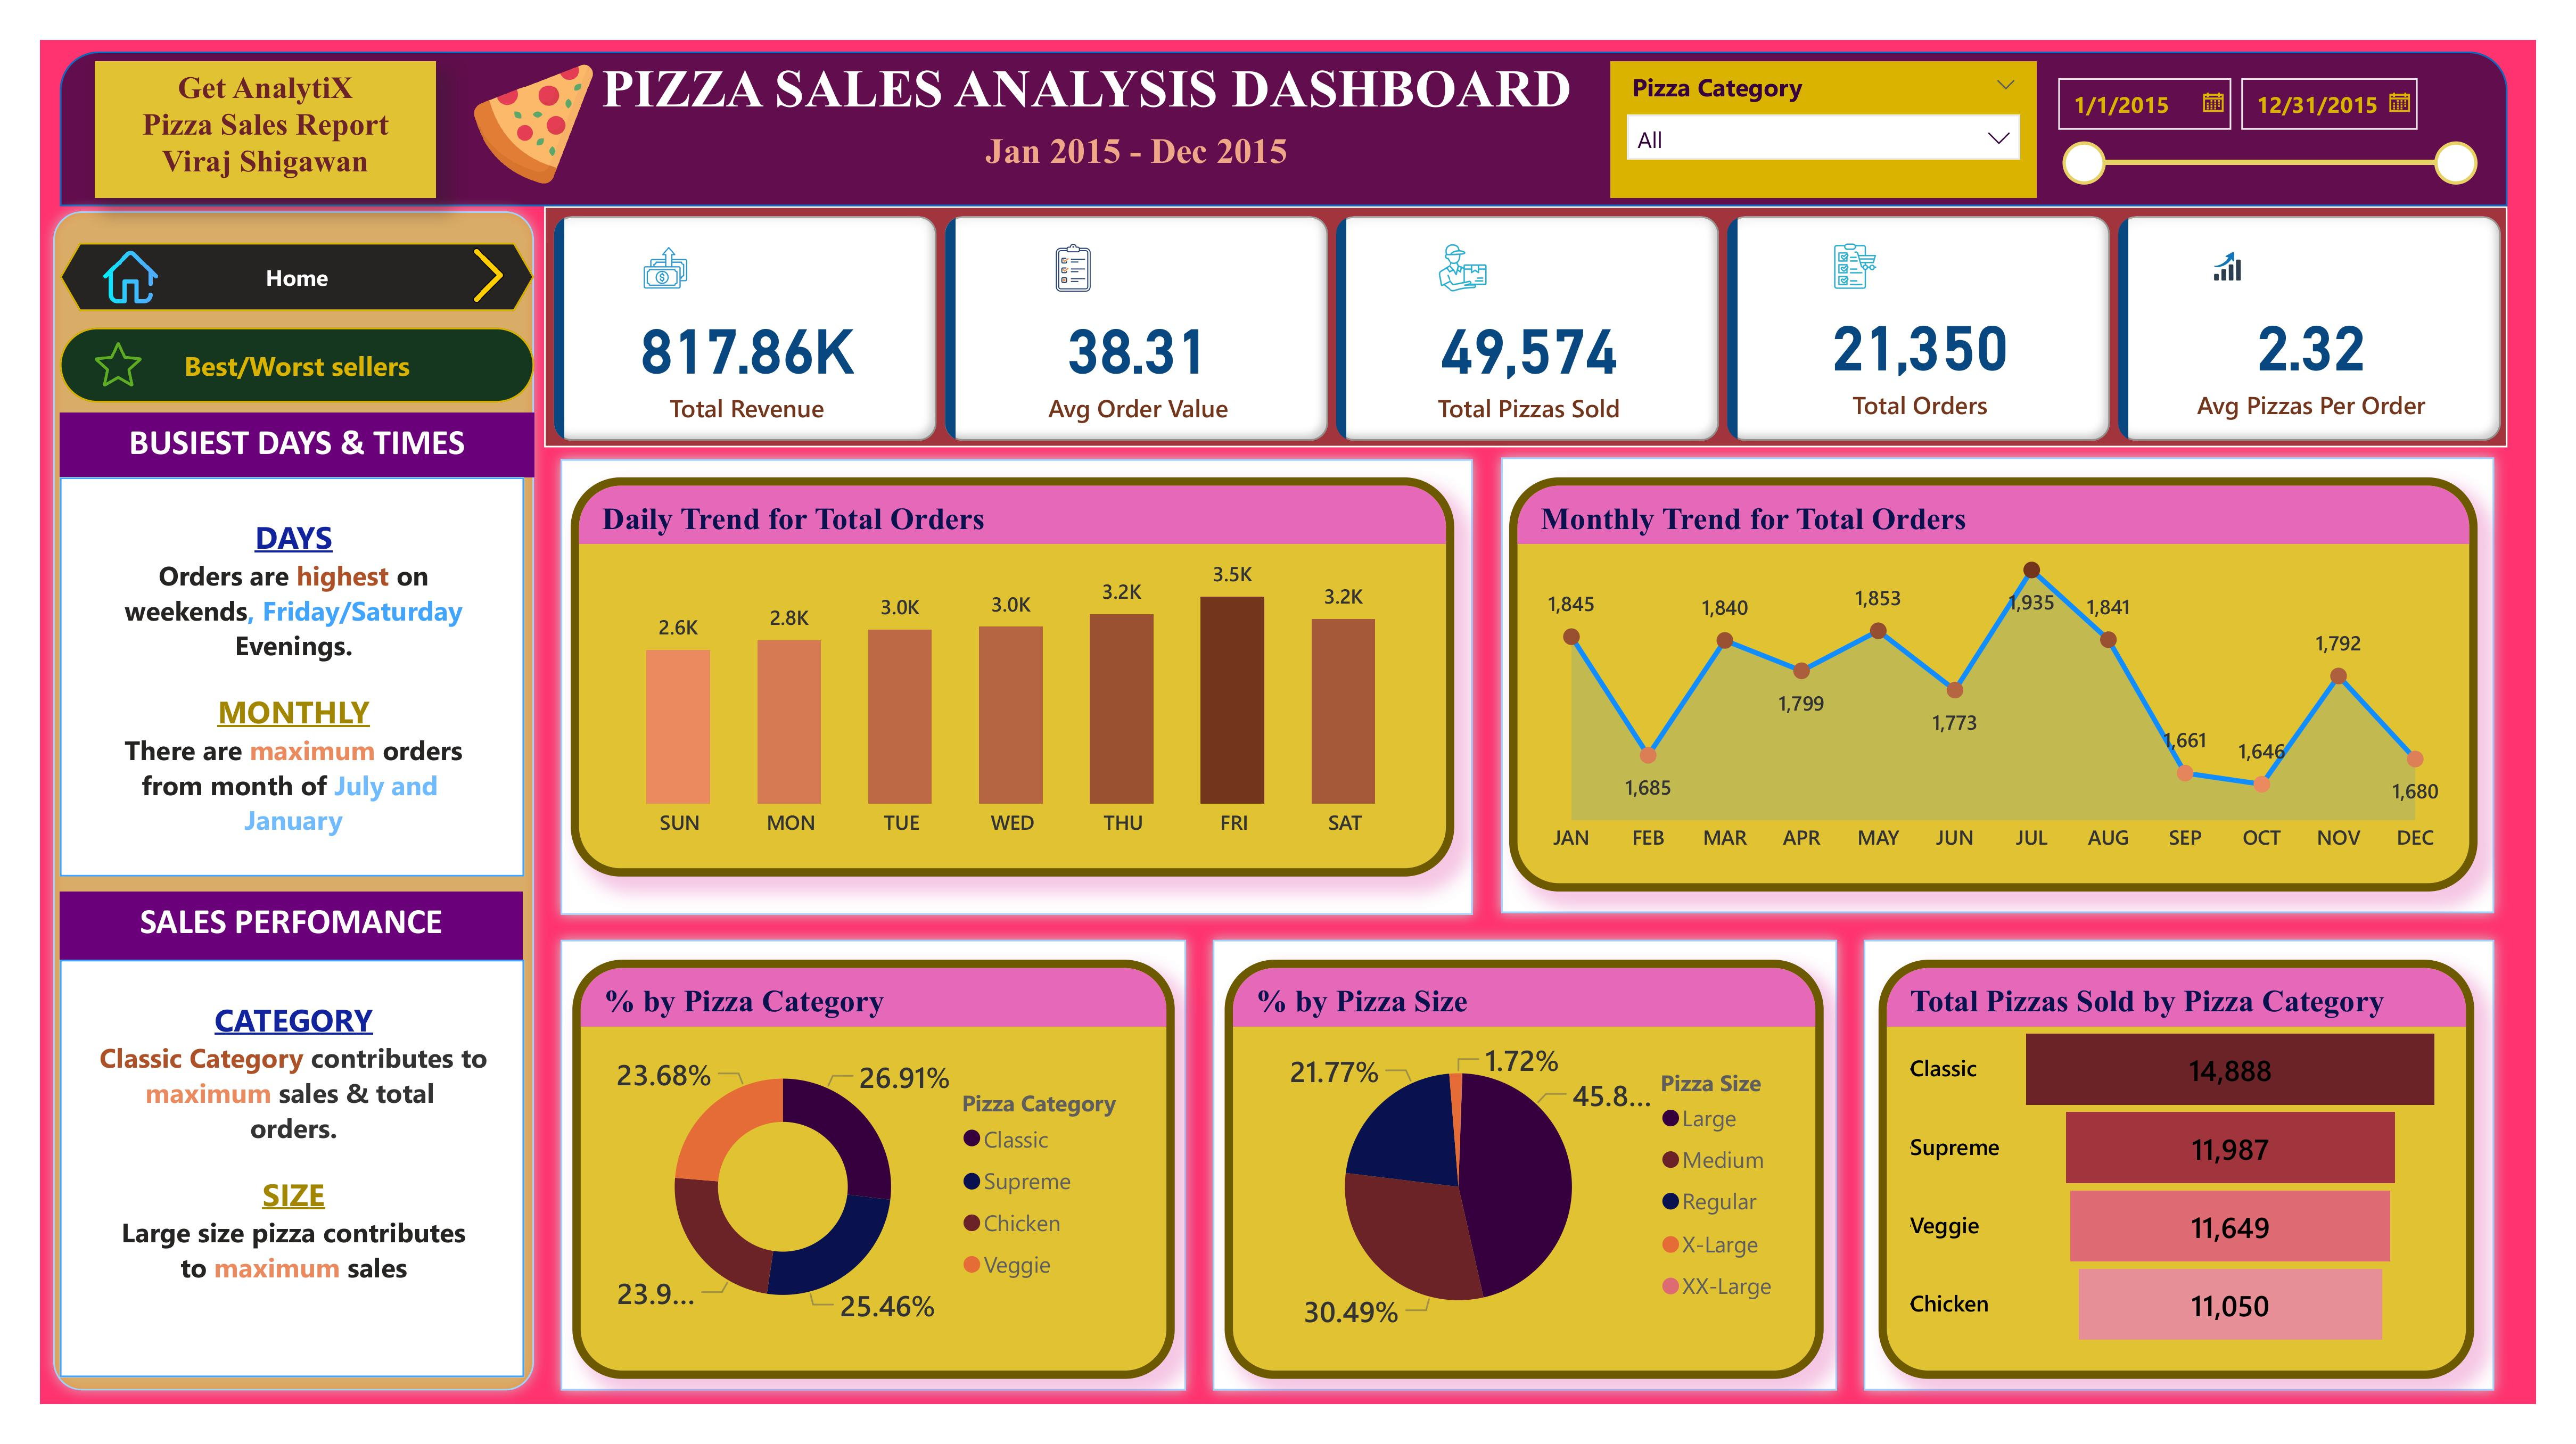

The page's visual inventory and layout, read from the dashboard file:
{"tool":"powerbi","page":{"name":"Home","canvas":[1500,820],"ordinal":0},"visuals":[{"type":"cardVisual","fields":{"Data":["pizza_sales.Total Revenue","pizza_sales.Avg Order Value","pizza_sales.Total Pizza Sold","pizza_sales.Total Orders Placed","pizza_sales.Avg pizza per order"]},"box":[303.3,100,1180,145],"z":0},{"type":"shape","box":[11.7,6.7,1471.7,93.3],"z":1000},{"type":"textbox","box":[265,6,728,53],"z":2000},{"type":"textbox","box":[551,50,216,45],"z":3000},{"type":"image","box":[254,6,85,89],"z":4000},{"type":"shape","box":[304.8,243.5,564.5,290.3],"z":5000},{"type":"columnChart","title":"Daily Trend for Total Orders","fields":{"Y":["pizza_sales.Total Orders"],"Category":["pizza_sales.Order Day"]},"box":[319.4,262.9,530.6,240.3],"z":6000},{"type":"shape","box":[870,243.3,613.3,290],"z":7000},{"type":"areaChart","title":"Monthly Trend for Total Orders ","fields":{"Category":["pizza_sales.Order Month"],"Y":["pizza_sales.Total Orders"]},"box":[883.3,263.3,581.7,248.3],"z":8000},{"type":"shape","box":[305,533.3,391.7,286.7],"z":9000},{"type":"shape","box":[696.7,533.3,391.7,286.7],"z":10000},{"type":"shape","box":[0,95,305,725],"z":11000},{"type":"shape","box":[1088.3,533.3,395,286.7],"z":12000},{"type":"donutChart","title":"% by Pizza Category","fields":{"Category":["pizza_sales.pizza_category"],"Y":["pizza_sales.Total Revenue"]},"box":[320,553.3,361.7,251.7],"z":13000},{"type":"pieChart","title":"% by Pizza Size","fields":{"Y":["pizza_sales.Total Revenue"],"Category":["pizza_sales.pizza_size"]},"box":[711.7,553.3,360,251.7],"z":14000},{"type":"funnel","title":"Total Pizzas Sold by Pizza Category","fields":{"Category":["pizza_sales.Pizza Category"],"Y":["pizza_sales.Total Pizzas Sold"]},"box":[1105,553.3,358.3,251.7],"z":15000},{"type":"textbox","box":[12.2,224.4,284.4,38.9],"z":16000},{"type":"textbox","box":[12.2,263.3,278.9,240],"z":17000},{"type":"textbox","box":[12.2,512.2,277.8,41.1],"z":18000},{"type":"textbox","box":[12.2,553.3,278.9,251.1],"z":19000},{"type":"slicer","fields":{"Values":["pizza_sales.Pizza Category"]},"box":[943.6,12.7,256.4,82.7],"z":20000},{"type":"slicer","fields":{"Values":["pizza_sales.order_date"]},"box":[1200,12.7,272.7,82.7],"z":21000},{"type":"pageNavigator","box":[11.7,121.7,285,40.8],"z":22000},{"type":"pageNavigator","box":[11.7,172.5,285,45],"z":23000},{"type":"image","box":[248.2,115.3,42.4,51.8],"z":24000},{"type":"image","box":[32.9,114.7,43.5,54.1],"z":25000},{"type":"image","box":[25,175.8,43.3,38.3],"z":26000},{"type":"textbox","box":[32.7,12.7,205.3,82.7],"z":27000}]}

Visuals, with their boxes on the page's 1500x820 design canvas (x1, y1, x2, y2). These are canvas units, not pixel positions in the 2576x1444 screenshot, which may show the page scaled, cropped or inside an application window:
cardVisual - pizza_sales.Total Revenue x pizza_sales.Avg Order Value: x1=303 y1=100 x2=1483 y2=245
shape: x1=12 y1=7 x2=1483 y2=100
textbox: x1=265 y1=6 x2=993 y2=59
textbox: x1=551 y1=50 x2=767 y2=95
image: x1=254 y1=6 x2=339 y2=95
shape: x1=305 y1=244 x2=869 y2=534
"Daily Trend for Total Orders" columnChart: x1=319 y1=263 x2=850 y2=503
shape: x1=870 y1=243 x2=1483 y2=533
"Monthly Trend for Total Orders " areaChart: x1=883 y1=263 x2=1465 y2=512
shape: x1=305 y1=533 x2=697 y2=820
shape: x1=697 y1=533 x2=1088 y2=820
shape: x1=0 y1=95 x2=305 y2=820
shape: x1=1088 y1=533 x2=1483 y2=820
"% by Pizza Category" donutChart: x1=320 y1=553 x2=682 y2=805
"% by Pizza Size" pieChart: x1=712 y1=553 x2=1072 y2=805
"Total Pizzas Sold by Pizza Category" funnel: x1=1105 y1=553 x2=1463 y2=805
textbox: x1=12 y1=224 x2=297 y2=263
textbox: x1=12 y1=263 x2=291 y2=503
textbox: x1=12 y1=512 x2=290 y2=553
textbox: x1=12 y1=553 x2=291 y2=804
slicer - pizza_sales.Pizza Category: x1=944 y1=13 x2=1200 y2=95
slicer - pizza_sales.order_date: x1=1200 y1=13 x2=1473 y2=95
pageNavigator: x1=12 y1=122 x2=297 y2=162
pageNavigator: x1=12 y1=172 x2=297 y2=218
image: x1=248 y1=115 x2=291 y2=167
image: x1=33 y1=115 x2=76 y2=169
image: x1=25 y1=176 x2=68 y2=214
textbox: x1=33 y1=13 x2=238 y2=95
